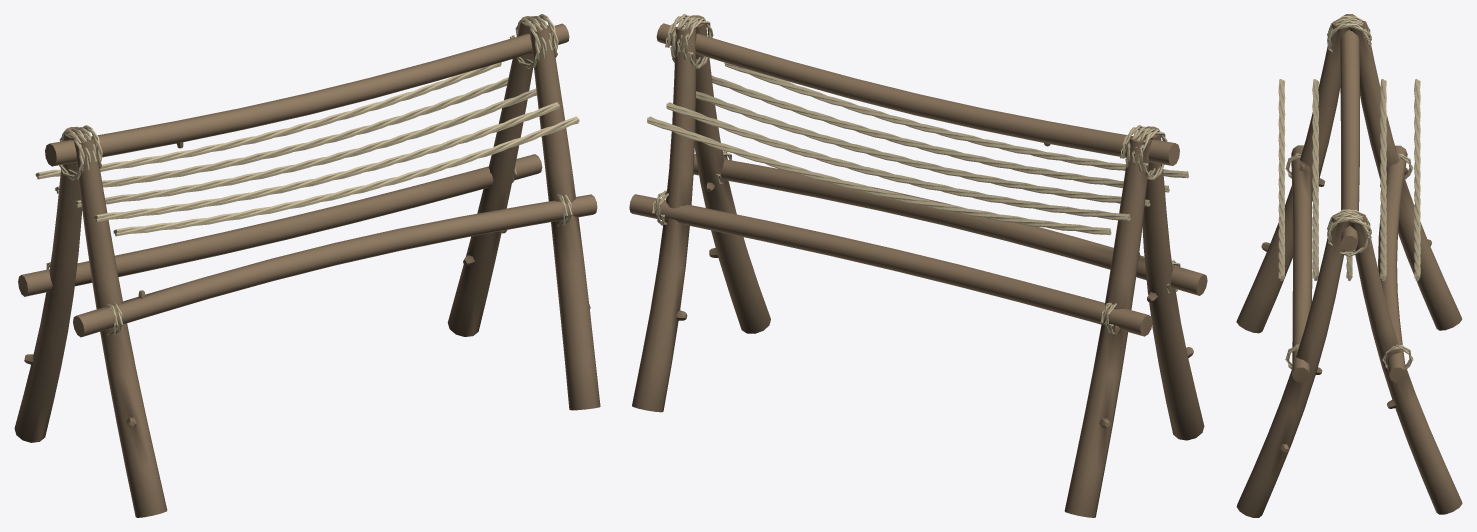
The model's file is stack_fish_rack.glb.
The picture shows the model from 3 angles, left to right: view 1: azimuth 30°, elevation 25°; view 2: azimuth 150°, elevation 25°; view 3: azimuth 270°, elevation 25°; orthographic projection. The views are drawn at different scales.
Visible parts, largest first — view 1: stack_fish_rack; view 2: stack_fish_rack; view 3: stack_fish_rack.
Boxes of the visible parts, <box> form: stack_fish_rack: <box>14,14,600,517</box>; stack_fish_rack: <box>629,14,1207,517</box>; stack_fish_rack: <box>1236,14,1462,517</box>.
Bounding box in the file's own units: 3.21 × 2.09 × 1.4.
